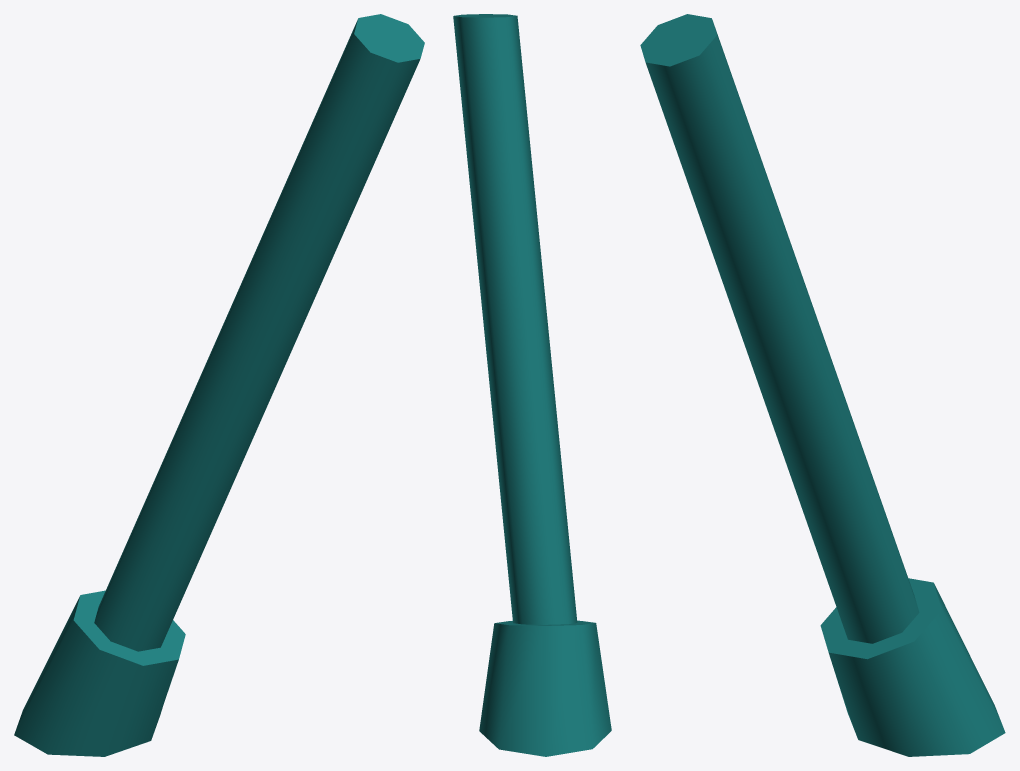
File: gymnastic_goat_collider2.fbx
3 renders of one model, left to right at view 1: azimuth 30°, elevation 25°; view 2: azimuth 150°, elevation 25°; view 3: azimuth 270°, elevation 25°, orthographic. The views are drawn at different scales.
Parts seen in each view (by area): view 1: gymnastic_goat_collider2; view 2: gymnastic_goat_collider2; view 3: gymnastic_goat_collider2.
Part boxes in pixels (x1,y1,x2,y2): gymnastic_goat_collider2: [14, 14, 424, 756]; gymnastic_goat_collider2: [453, 14, 611, 756]; gymnastic_goat_collider2: [640, 14, 1005, 756].
Bounding box in the file's own units: 21.58 × 53.74 × 22.38.
